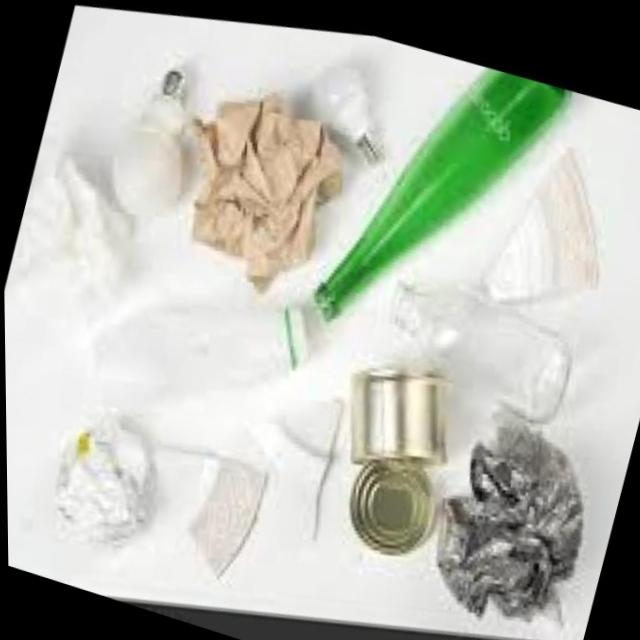clothes: (291, 319, 496, 591)
foam box: (258, 11, 631, 392), (360, 229, 597, 445), (441, 92, 640, 336), (207, 356, 381, 562), (129, 408, 299, 601), (77, 27, 224, 235), (297, 26, 425, 176)
food: (145, 45, 388, 317), (4, 370, 188, 583)
leaf: (70, 238, 327, 443), (4, 112, 179, 314)
metal: (385, 357, 632, 640)
